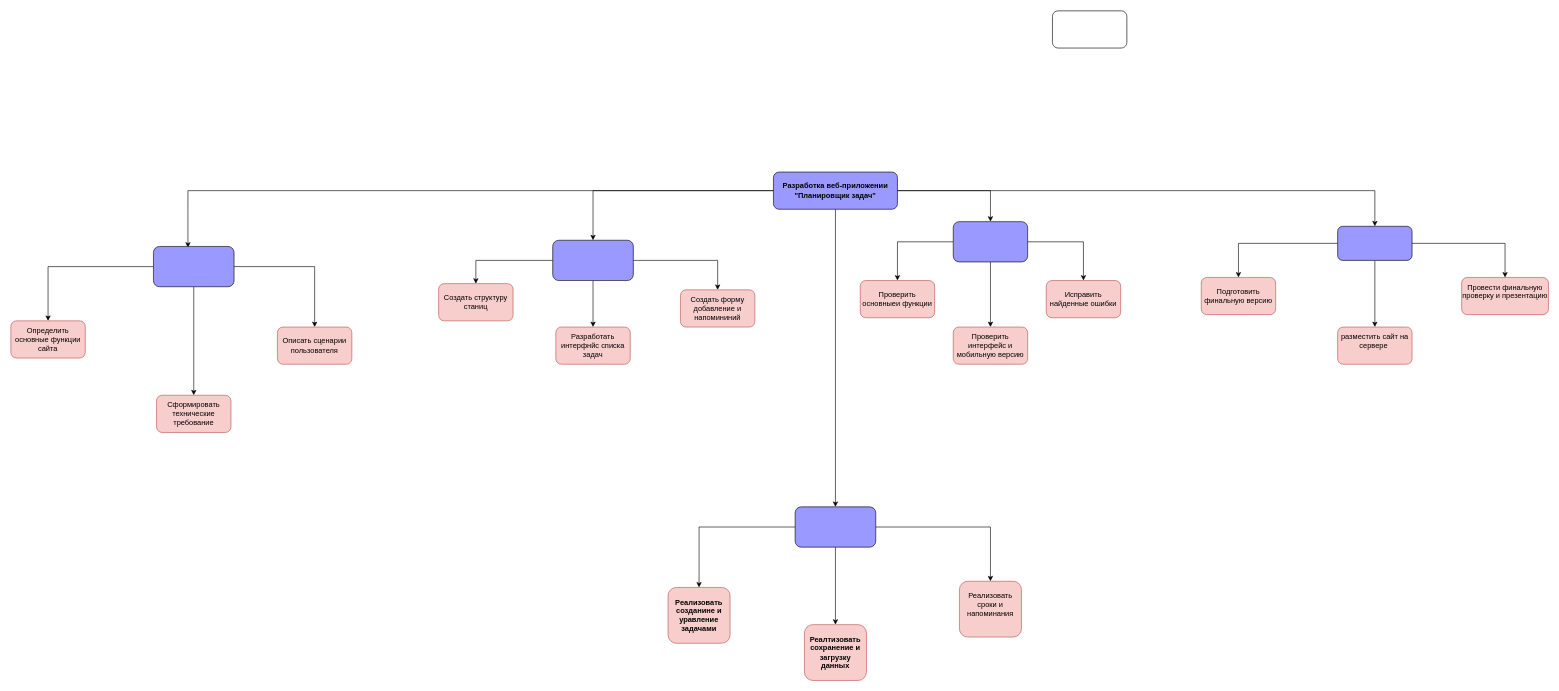
Some shapes in this 1559 by 691 pixel diagram are drawn without their labels. The centre of each missing label's shape, as x and y in pixels:
"Дизайн" goes at point (592, 260).
"Запуск" goes at point (1374, 243).
"Разработка" goes at point (835, 526).
"Тестирование" goes at point (990, 241).
"Требования" goes at point (193, 266).
